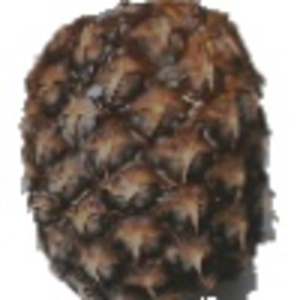abacaxi: (14, 4, 279, 294)
